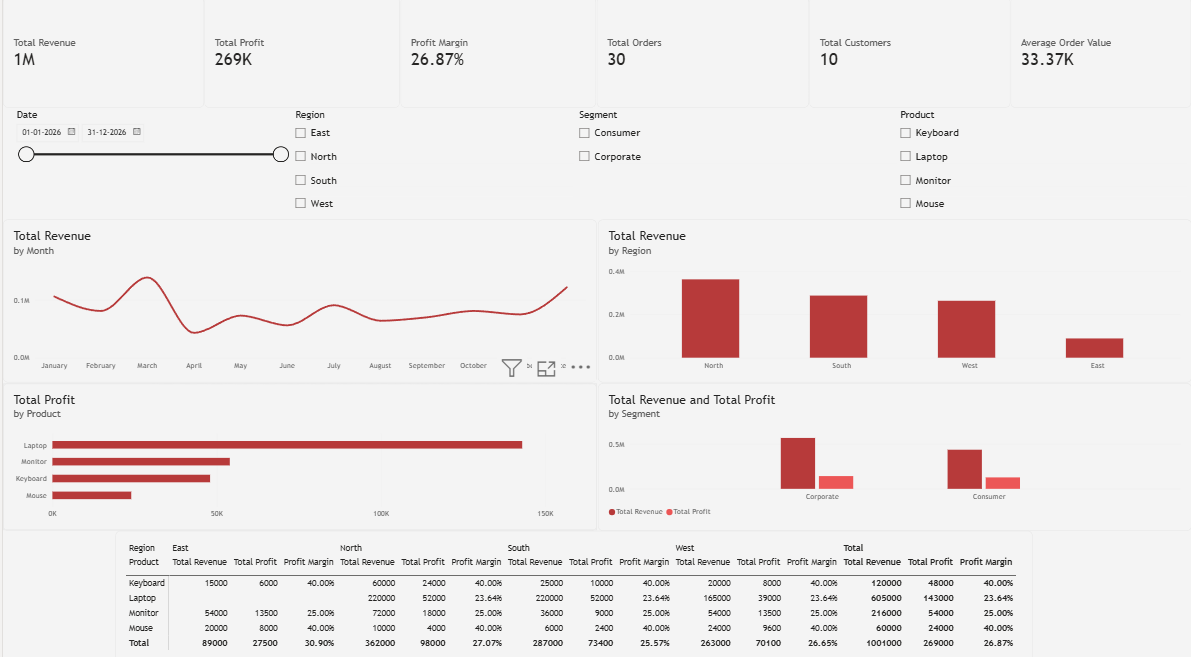

This screenshot's page, from the dashboard's own definition file:
{"tool":"powerbi","page":{"name":"Page 1","canvas":[1920,1080],"ordinal":0},"visuals":[{"type":"cardVisual","fields":{"Data":["Sales.Total Revenue"]},"box":[0,0,325.2,179.1],"z":0},{"type":"cardVisual","fields":{"Data":["Sales.Total Orders"]},"box":[959.2,0,343.7,179.1],"z":1000},{"type":"cardVisual","fields":{"Data":["Sales.Total Customers"]},"box":[1302.9,0,325.2,179.1],"z":2000},{"type":"cardVisual","fields":{"Data":["Sales.Average Order Value"]},"box":[1628.1,0,292.3,179.1],"z":3000},{"type":"cardVisual","fields":{"Data":["Sales.Total Profit"]},"box":[325.2,0,317,179.1],"z":4000},{"type":"cardVisual","fields":{"Data":["Sales.Profit Margin"]},"box":[642.2,0,317,179.1],"z":5000},{"type":"slicer","fields":{"Values":["DateTable.Date"]},"box":[14.4,179.1,450.8,181.1],"z":6000},{"type":"slicer","fields":{"Values":["Customers.Segment"]},"box":[922.1,179.1,520.8,181.1],"z":7000},{"type":"slicer","fields":{"Values":["Products.Product"]},"box":[1440.8,179.1,471.4,181.1],"z":8000},{"type":"slicer","fields":{"Values":["Sales.Region"]},"box":[465.2,179.1,456.9,181.1],"z":9000},{"type":"lineChart","fields":{"Category":["DateTable.Month"],"Y":["Sales.Total Revenue"]},"box":[0,360.2,959.2,263.5],"z":10000},{"type":"clusteredColumnChart","fields":{"Category":["Sales.Region"],"Y":["Sales.Total Revenue"]},"box":[961.2,360.2,959.2,263.5],"z":11000},{"type":"barChart","fields":{"Category":["Products.Product"],"Y":["Sales.Total Profit"]},"box":[0,623.7,959.2,238.8],"z":12000},{"type":"clusteredColumnChart","fields":{"Category":["Customers.Segment"],"Y":["Sales.Total Revenue","Sales.Total Profit"]},"box":[961.2,623.7,959.2,238.8],"z":13000},{"type":"pivotTable","fields":{"Columns":["Sales.Region"],"Rows":["Products.Product"],"Values":["Sales.Total Revenue","Sales.Total Profit","Sales.Profit Margin"]},"box":[181.1,862.4,1482,218.2],"z":14000}]}

Visuals, with their boxes in screenshot pixels (x1, y1, x2, y2), scaled from the page's 1920x1080 canvas onto the 1191x657 screenshot:
cardVisual - Sales.Total Revenue: (x1=0, y1=0, x2=202, y2=109)
cardVisual - Sales.Total Orders: (x1=595, y1=0, x2=808, y2=109)
cardVisual - Sales.Total Customers: (x1=808, y1=0, x2=1010, y2=109)
cardVisual - Sales.Average Order Value: (x1=1010, y1=0, x2=1190, y2=109)
cardVisual - Sales.Total Profit: (x1=202, y1=0, x2=398, y2=109)
cardVisual - Sales.Profit Margin: (x1=398, y1=0, x2=595, y2=109)
slicer - DateTable.Date: (x1=9, y1=109, x2=289, y2=219)
slicer - Customers.Segment: (x1=572, y1=109, x2=895, y2=219)
slicer - Products.Product: (x1=894, y1=109, x2=1186, y2=219)
slicer - Sales.Region: (x1=289, y1=109, x2=572, y2=219)
lineChart - DateTable.Month x Sales.Total Revenue: (x1=0, y1=219, x2=595, y2=379)
clusteredColumnChart - Sales.Region x Sales.Total Revenue: (x1=596, y1=219, x2=1190, y2=379)
barChart - Products.Product x Sales.Total Profit: (x1=0, y1=379, x2=595, y2=525)
clusteredColumnChart - Customers.Segment x Sales.Total Revenue: (x1=596, y1=379, x2=1190, y2=525)
pivotTable - Sales.Region x Products.Product: (x1=112, y1=525, x2=1032, y2=656)
